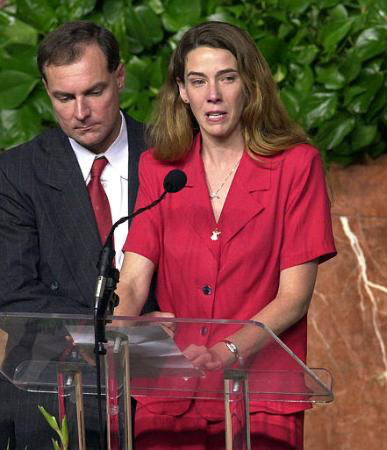Face: (42, 63, 123, 146), (182, 54, 249, 138)
